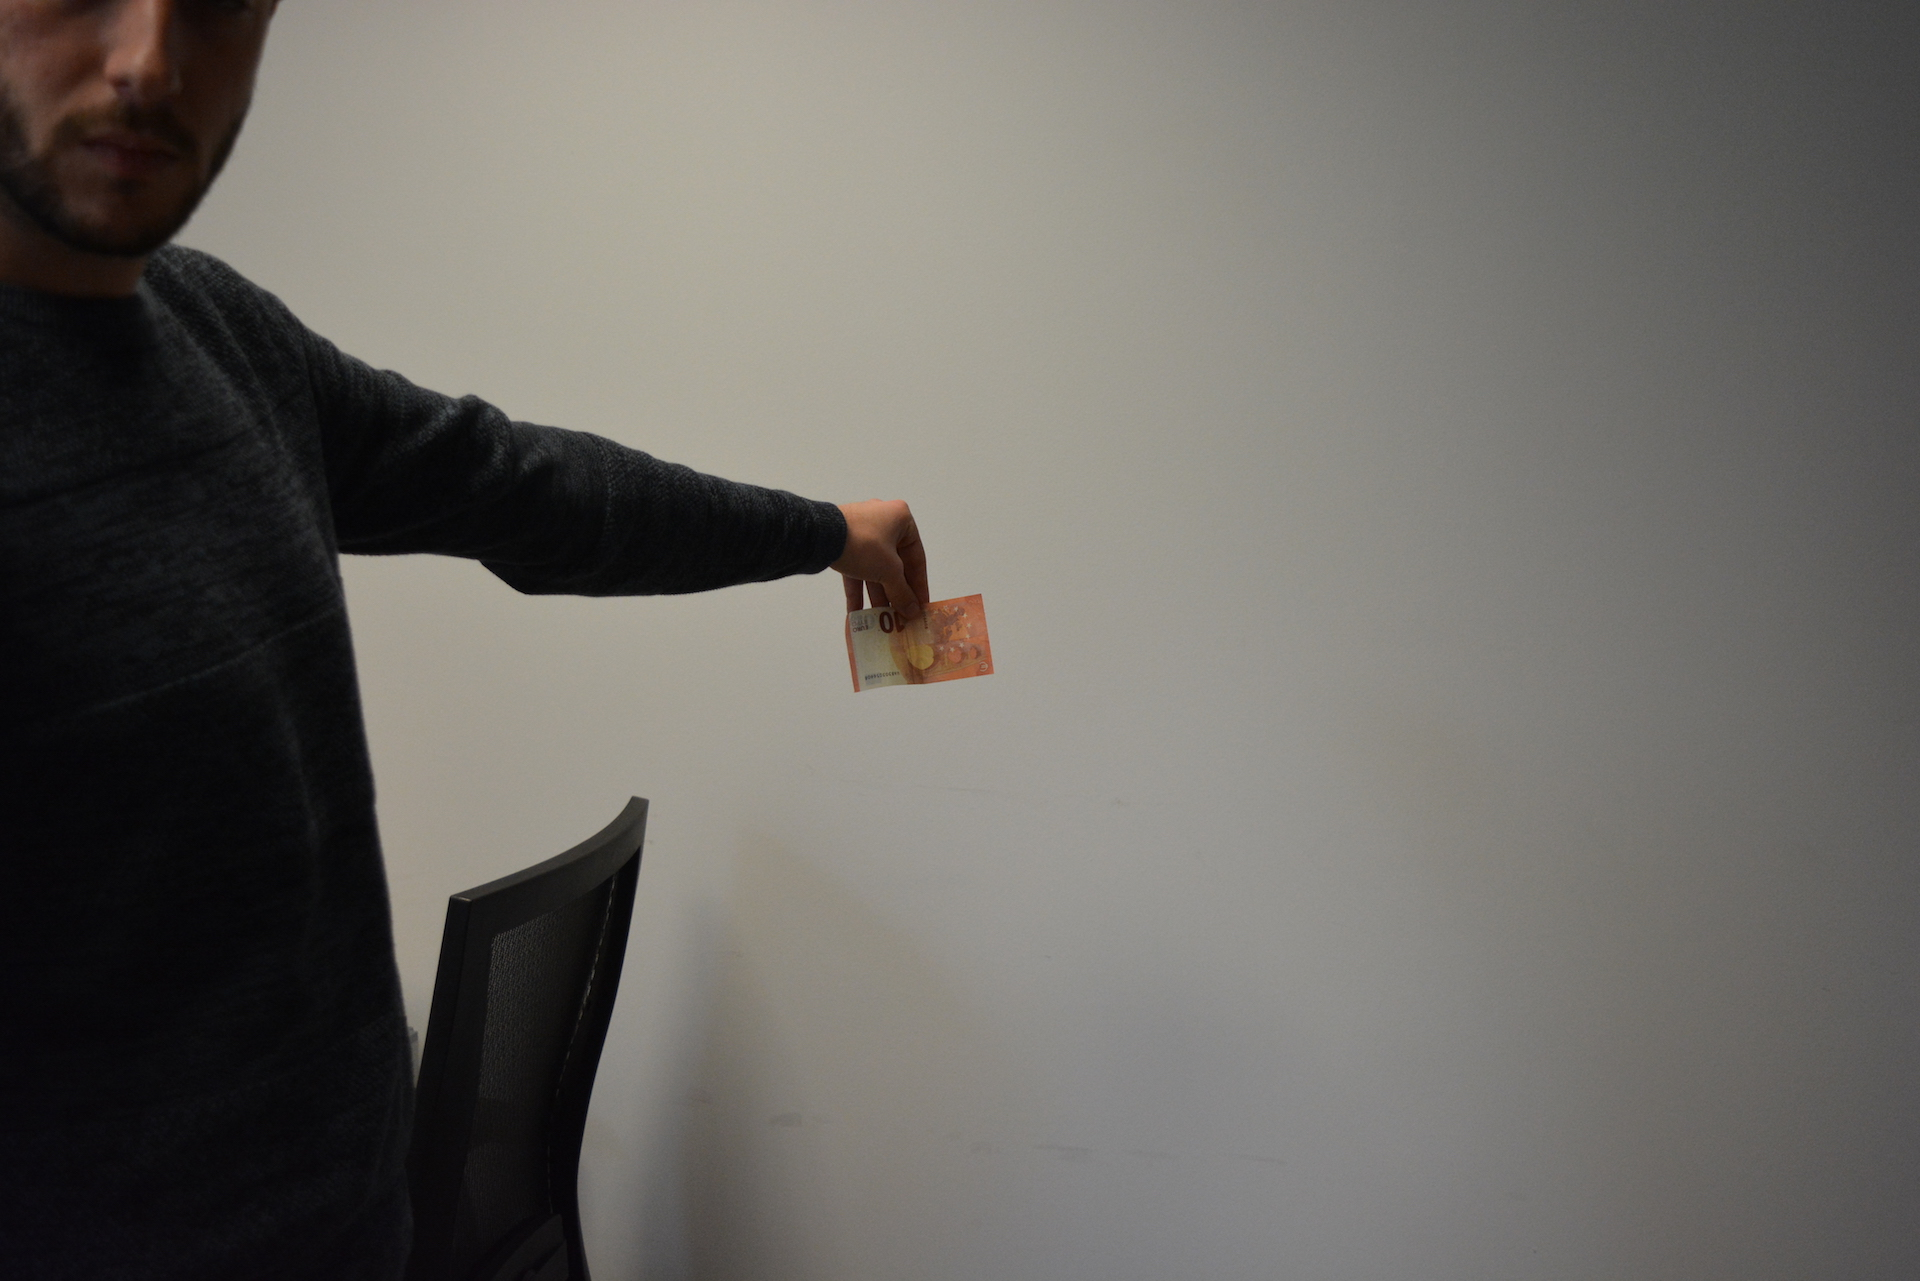billete: (845, 593, 996, 693)
